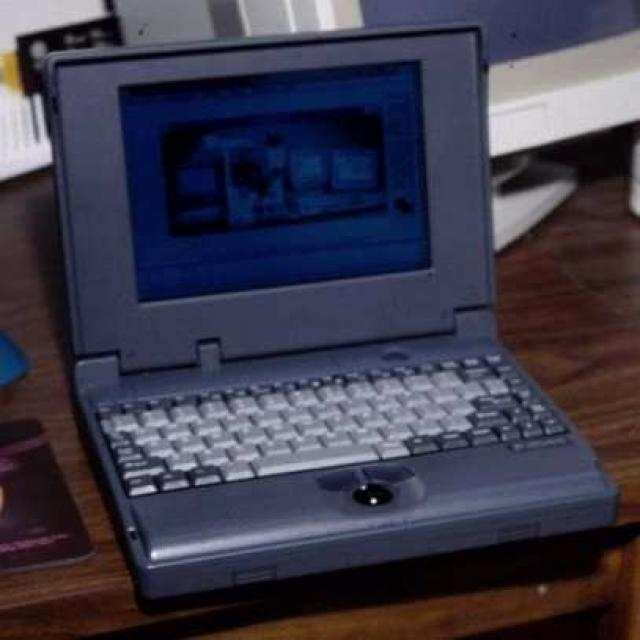laptop: (16, 8, 600, 602)
